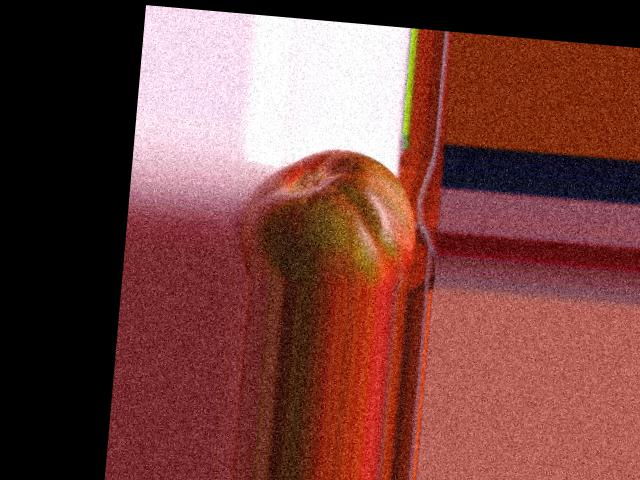tomato: (237, 142, 423, 292)
